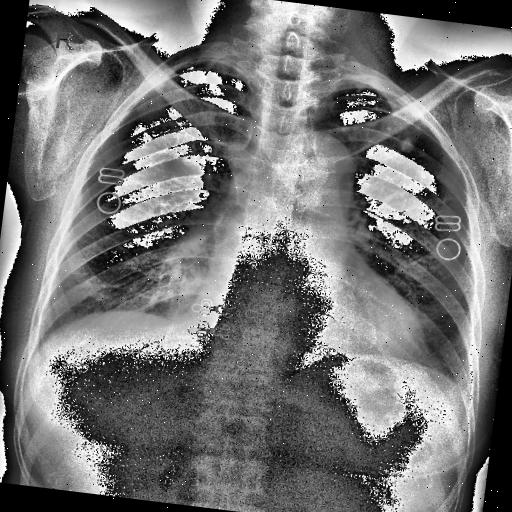0- Aortic enlargement: (283, 126, 363, 208), (284, 129, 361, 204), (286, 130, 362, 196)
11- Pleural thickening: (337, 73, 411, 104)
13- Pulmonary fibrosis: (386, 110, 424, 156), (371, 90, 388, 118)
3- Cardiomegaly: (185, 266, 442, 372), (198, 265, 434, 369), (193, 274, 436, 372)
8- Nodule-Mass: (397, 134, 416, 154), (396, 133, 414, 154)
9- Other lesion: (397, 134, 416, 154)
